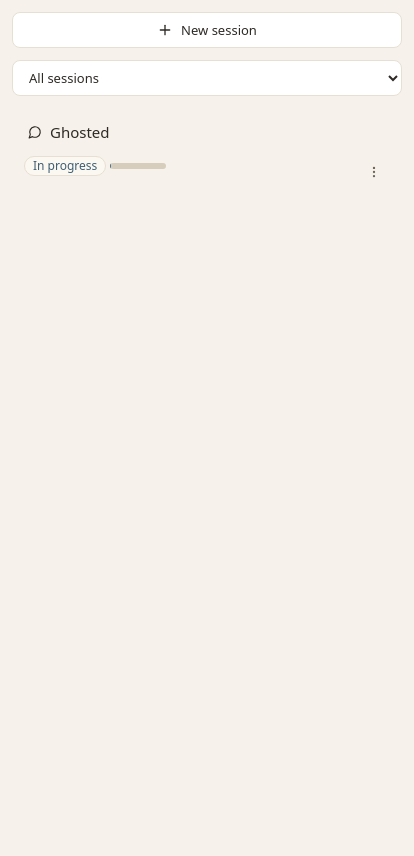
Test: Sessions › recovers a LEGACY session that dead-ended on a BLANK assistant reply (pre-05 §4.1)
Click the button "Ghosted" at (80, 132), box [16, 112, 398, 152]
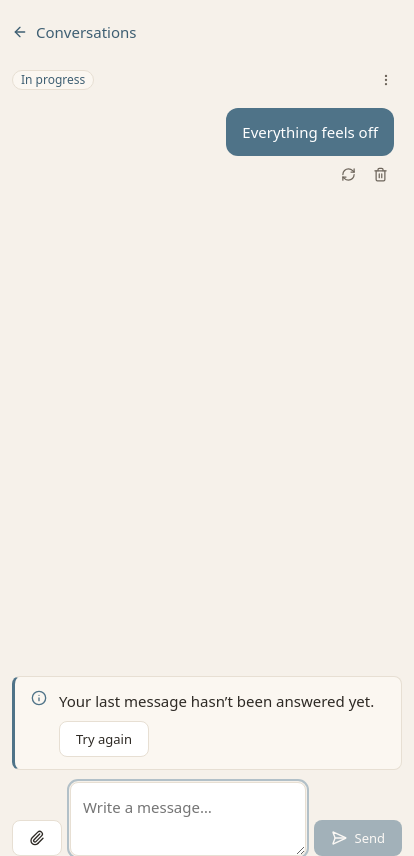
Check: the text "Everything feels off" is shown, box [226, 108, 394, 156]
Check: the text "Your last message hasn’t been answered yet." is shown, box [59, 689, 374, 713]
Click the button "Try again" at (104, 739), box [59, 721, 149, 757]
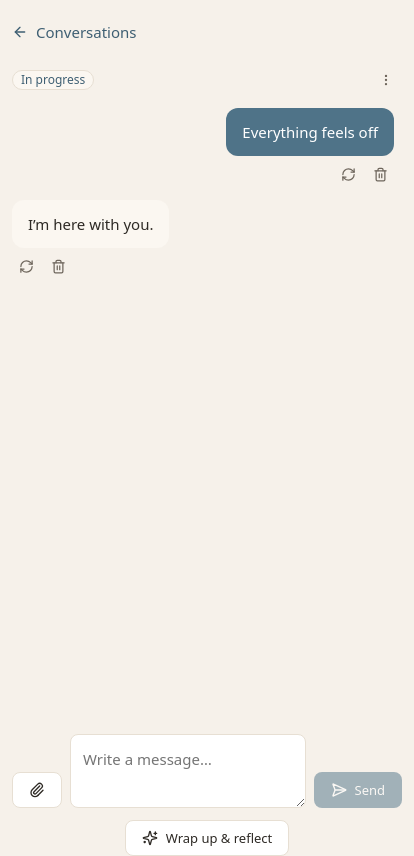
Check: the text "I’m here with you." is shown, box [28, 212, 153, 236]
Check: the text "hasn’t been answered yet" is gone
